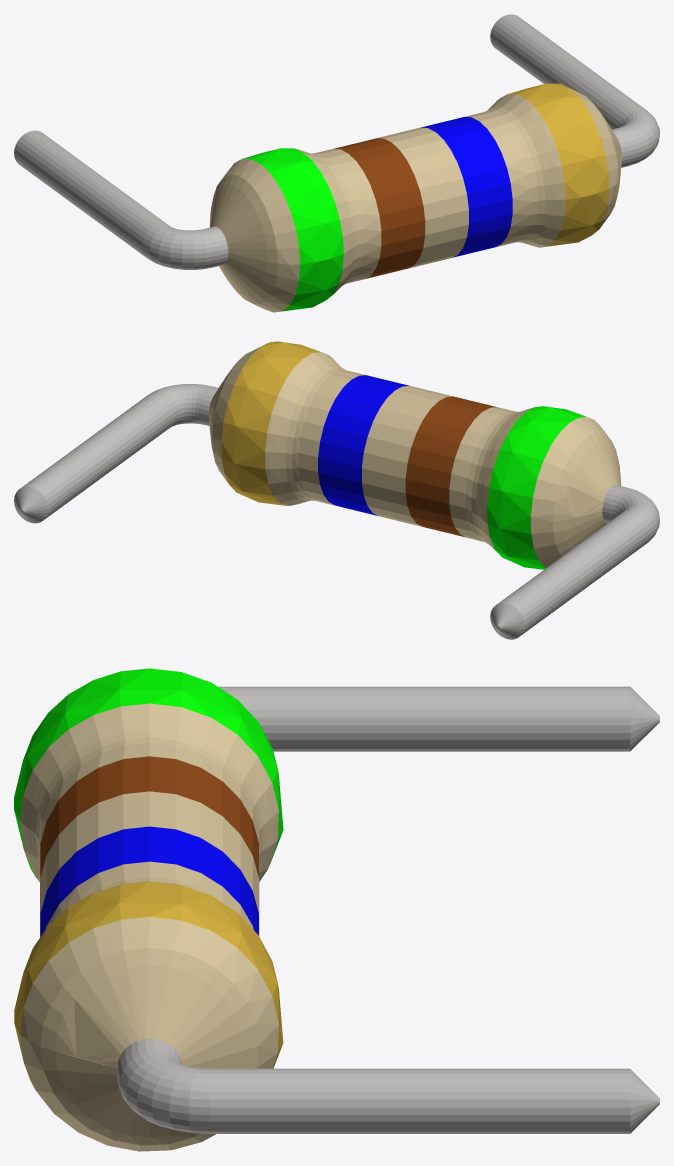
Rendered from Yageo CFR-25 Resistor Axial P7.62mm 51,0 MOhm.obj.
3 renders of one model, top to bottom at view 1: azimuth 30°, elevation 25°; view 2: azimuth 150°, elevation 25°; view 3: azimuth 270°, elevation 25°, orthographic. The views are drawn at different scales.
Visible parts, largest first — view 1: Yageo_CFR-25_Resistor_Axial_P7.62mm_51,0_MOhm; view 2: Yageo_CFR-25_Resistor_Axial_P7.62mm_51,0_MOhm; view 3: Yageo_CFR-25_Resistor_Axial_P7.62mm_51,0_MOhm.
Boxes of the visible parts, box(x1,y1,x2,y2) form: Yageo_CFR-25_Resistor_Axial_P7.62mm_51,0_MOhm: box(14, 14, 659, 312); Yageo_CFR-25_Resistor_Axial_P7.62mm_51,0_MOhm: box(14, 341, 659, 639); Yageo_CFR-25_Resistor_Axial_P7.62mm_51,0_MOhm: box(14, 668, 659, 1151).
Bounding box in the file's own units: 0.0183 × 0.00506 × 0.0122.
